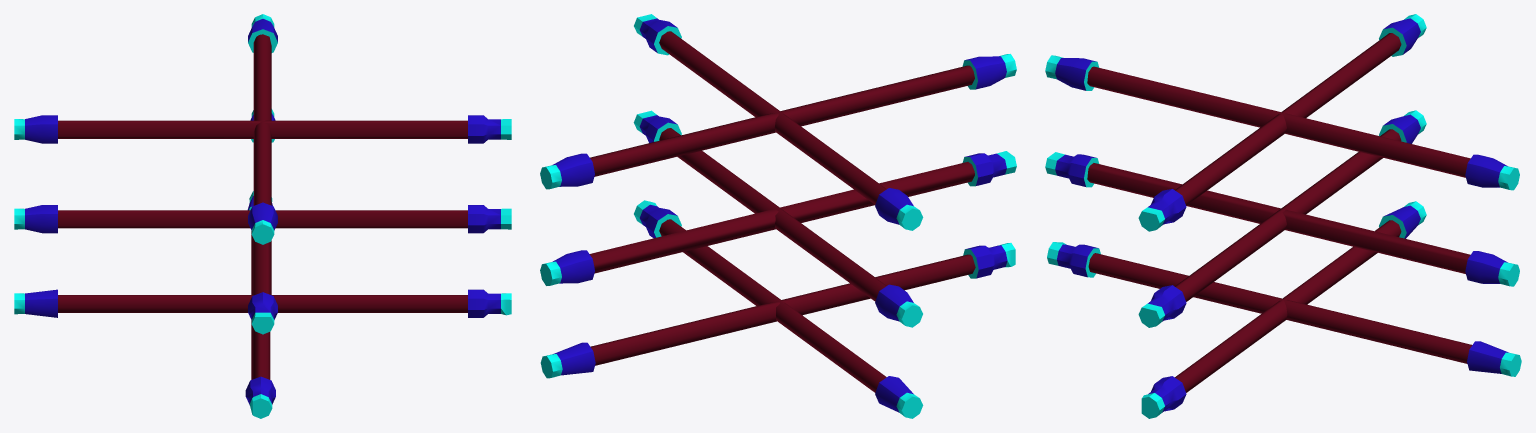
File: ETC0310016.fbx
3 views of the same model, side by side, from view 1: azimuth 30°, elevation 25°; view 2: azimuth 150°, elevation 25°; view 3: azimuth 270°, elevation 25° (orthographic). The views are drawn at different scales.
Parts seen in each view (by area): view 1: smETC0310016; view 2: smETC0310016; view 3: smETC0310016.
Part boxes in pixels (x1,y1,x2,y2): smETC0310016: (14, 14, 511, 418); smETC0310016: (540, 14, 1016, 418); smETC0310016: (1045, 14, 1521, 418).
Bounding box in the file's own units: 241 × 121 × 242.
Materials: 2 (1 with a texture image).
